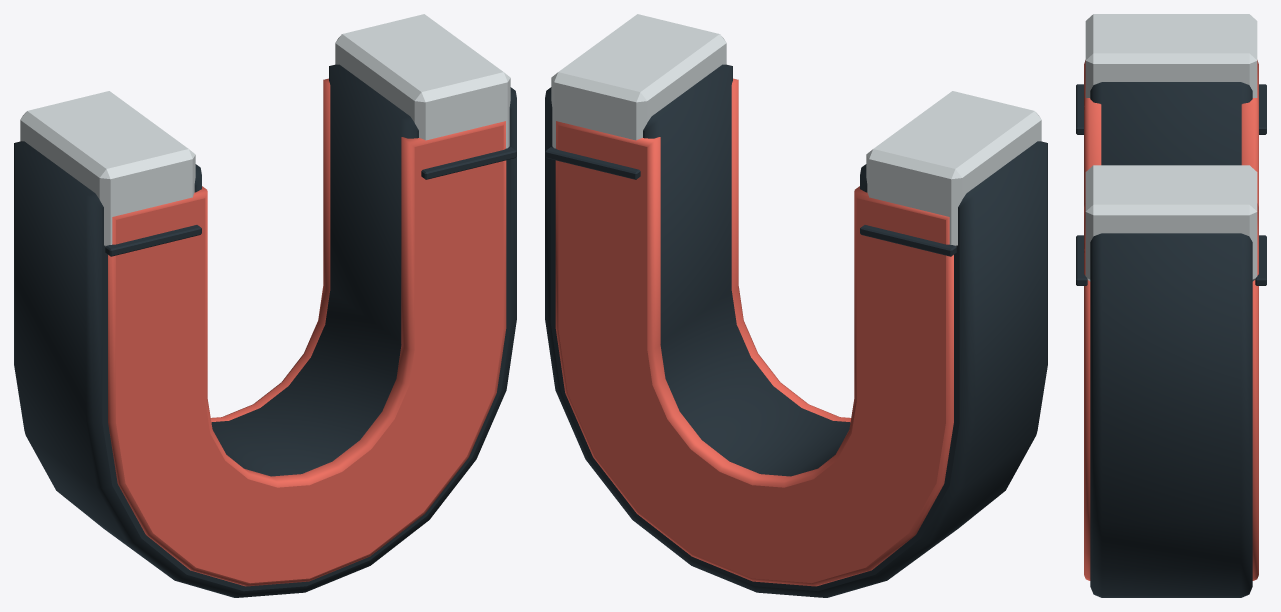
Rendered from magnet_v1.glb.
The picture shows the model from 3 angles, left to right: view 1: azimuth 30°, elevation 25°; view 2: azimuth 150°, elevation 25°; view 3: azimuth 270°, elevation 25°; orthographic projection.
Parts seen in each view (by area): view 1: Magnet / coral enamel face, Magnet / ink rim and sidewalls, Magnet / left pole tip, Magnet / right pole tip, Magnet / coral enamel back, Magnet / left pole ink seam front, Magnet / right pole ink seam front; view 2: Magnet / coral enamel back, Magnet / ink rim and sidewalls, Magnet / left pole tip, Magnet / right pole tip, Magnet / coral enamel face, Magnet / left pole ink seam back, Magnet / right pole ink seam back; view 3: Magnet / ink rim and sidewalls, Magnet / right pole tip, Magnet / left pole tip, Magnet / coral enamel face, Magnet / coral enamel back, Magnet / right pole ink seam front, Magnet / right pole ink seam back, Magnet / left pole ink seam front, Magnet / left pole ink seam back.
Part boxes in pixels (x1,y1,x2,y2): Magnet / coral enamel face: (108,121,506,586); Magnet / ink rim and sidewalls: (14,64,516,597); Magnet / left pole tip: (20,91,195,246); Magnet / right pole tip: (335,14,510,148); Magnet / coral enamel back: (211,78,330,422); Magnet / left pole ink seam front: (105,225,201,256); Magnet / right pole ink seam front: (421,147,516,179); Magnet / coral enamel back: (555,121,953,586); Magnet / ink rim and sidewalls: (545,64,1047,597); Magnet / left pole tip: (866,91,1041,246); Magnet / right pole tip: (551,14,726,148); Magnet / coral enamel face: (731,78,850,422); Magnet / left pole ink seam back: (860,225,956,256); Magnet / right pole ink seam back: (545,147,640,179); Magnet / ink rim and sidewalls: (1090,82,1252,597); Magnet / right pole tip: (1085,165,1257,281); Magnet / left pole tip: (1085,14,1257,97); Magnet / coral enamel face: (1084,60,1101,580); Magnet / coral enamel back: (1241,60,1258,580); Magnet / right pole ink seam front: (1076,235,1087,285); Magnet / right pole ink seam back: (1255,235,1266,285); Magnet / left pole ink seam front: (1076,84,1083,134); Magnet / left pole ink seam back: (1259,84,1266,134).
Size of the model in its own units: 1.05 by 1.11 by 0.411.
